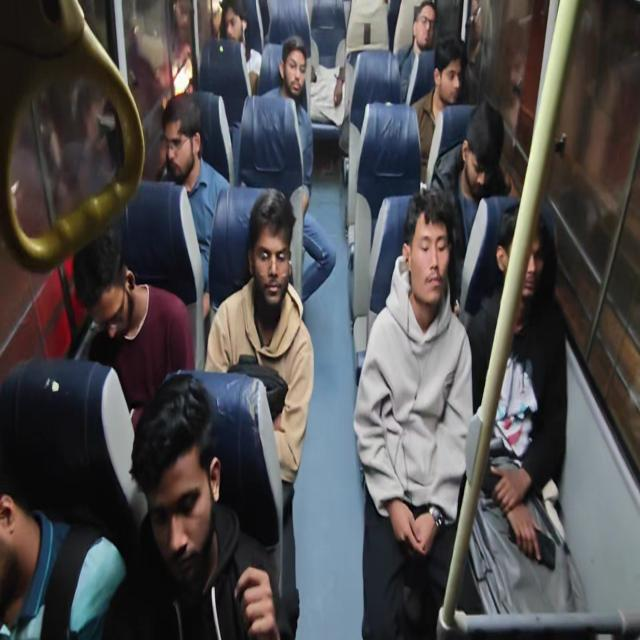person: (127, 365, 230, 608), (0, 413, 91, 620), (497, 227, 603, 402), (76, 222, 140, 375), (152, 103, 236, 210), (406, 198, 460, 326), (235, 184, 288, 313), (407, 1, 472, 76), (269, 42, 325, 117), (476, 107, 506, 205), (308, 53, 332, 152), (223, 7, 257, 67), (439, 52, 467, 118)
